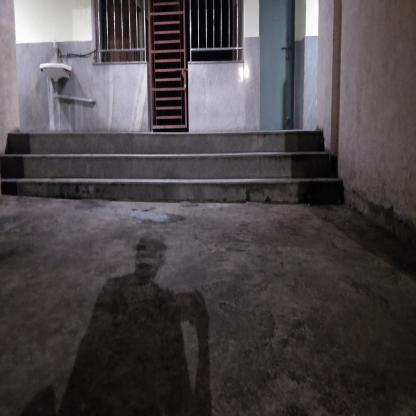stairs: (12, 128, 321, 207)
